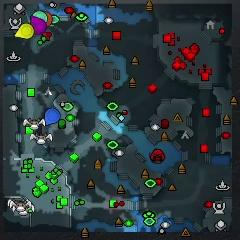p1: (45, 108, 60, 126)
p2: (32, 10, 47, 21)
p3: (30, 16, 47, 35)
p4: (15, 23, 34, 39)
p5: (44, 11, 53, 28)
